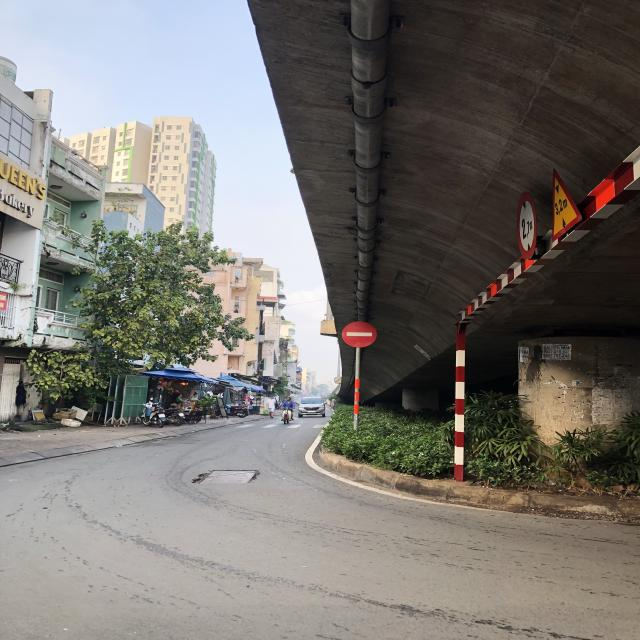Bien bao cam di nguoc chieu: (338, 318, 382, 352)
Bien bao chieu cao tinh khong thuc te: (540, 167, 597, 244)
